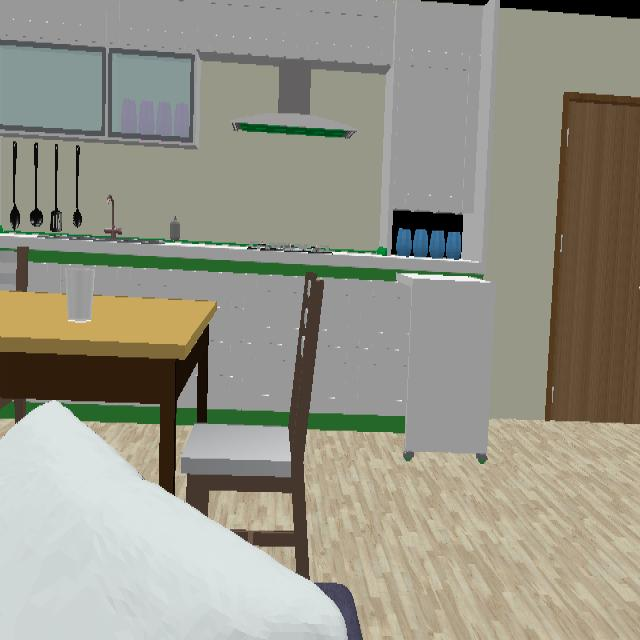cabinet: (0, 0, 482, 212), (95, 267, 303, 411), (310, 278, 409, 416)
chair: (181, 273, 324, 578)
countertop: (0, 234, 484, 281)
pillow: (0, 403, 346, 638)
sink: (69, 195, 140, 241)
stove: (248, 242, 331, 252)
table: (0, 292, 216, 492)
